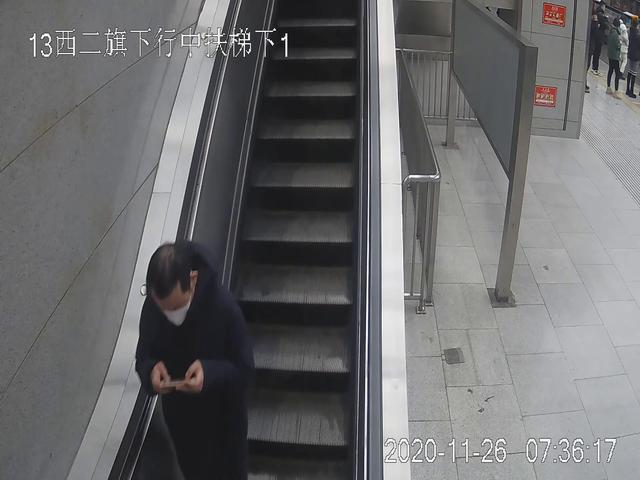person: (137, 243, 250, 480), (606, 19, 624, 98)
